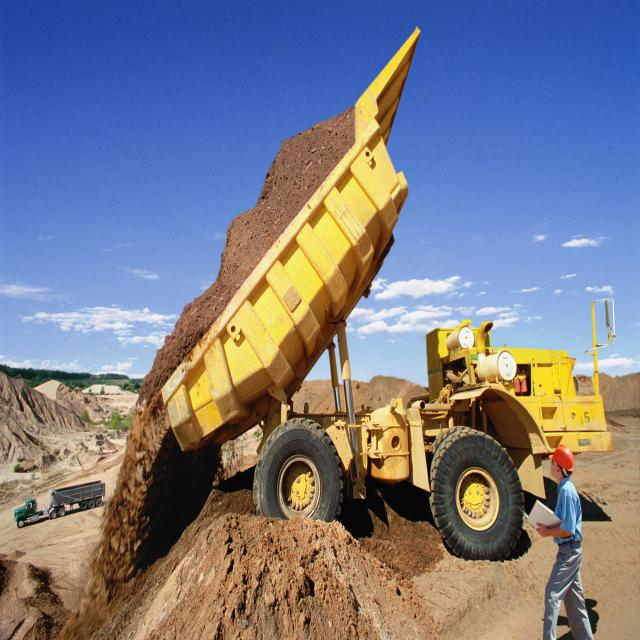dump_truck: (155, 21, 620, 573)
